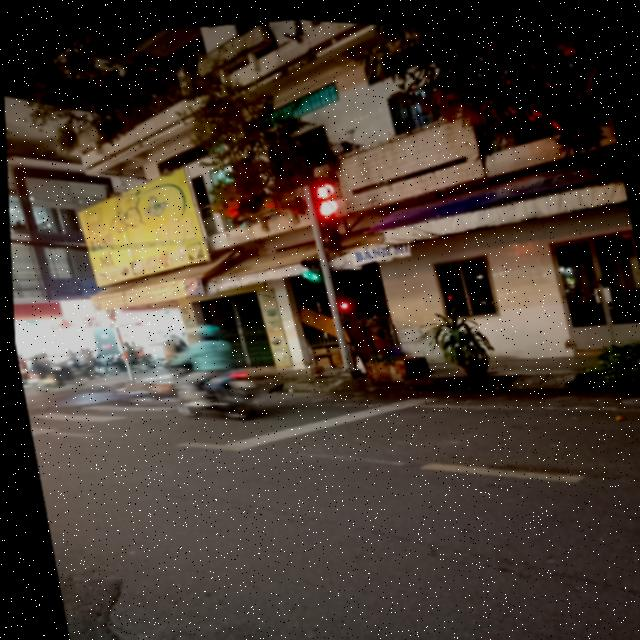Red: (311, 192, 346, 250), (328, 290, 355, 324)
